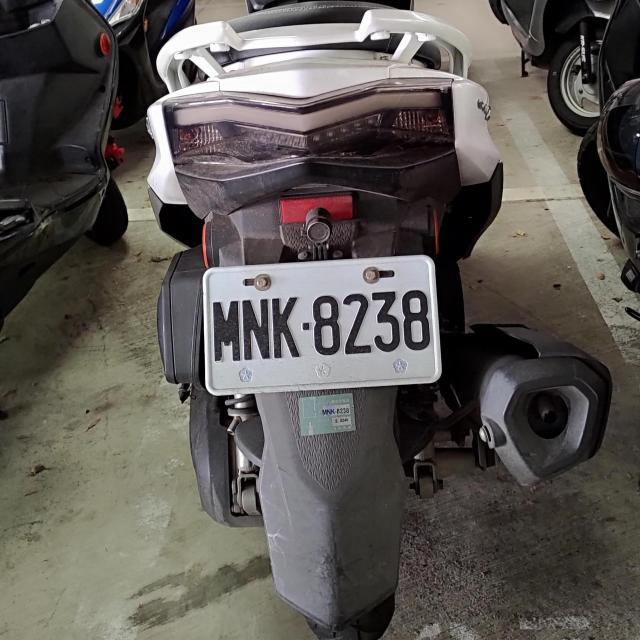W: (199, 255, 440, 390)
